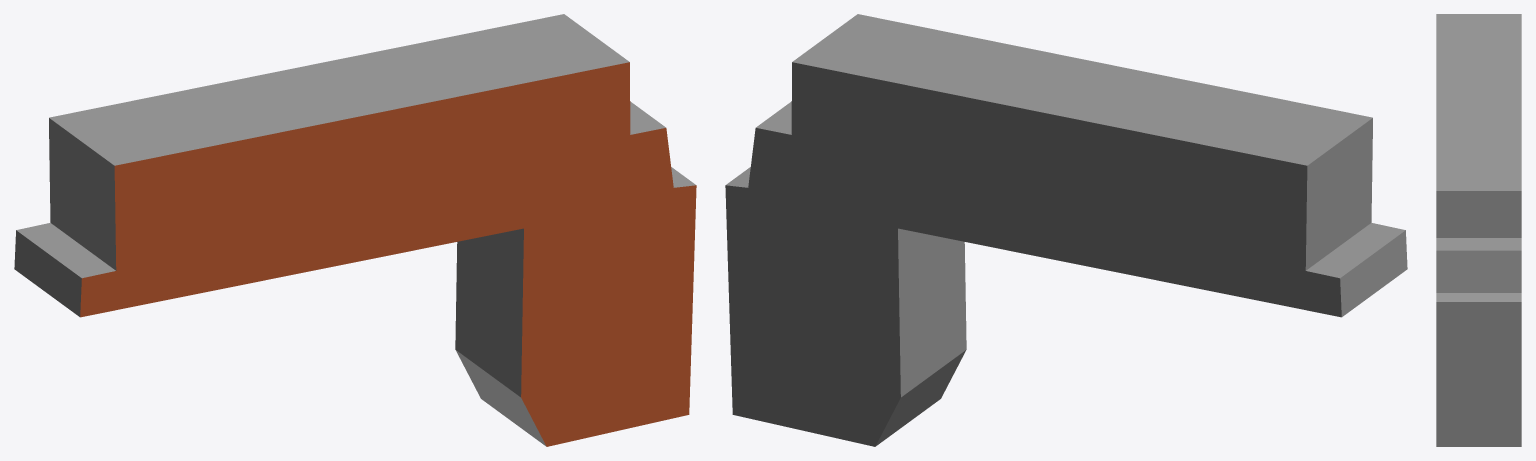
Rendered from construction_5792_assumed_A_Casa_h6m.obj.
3 views of the same model, side by side, from view 1: azimuth 30°, elevation 25°; view 2: azimuth 150°, elevation 25°; view 3: azimuth 270°, elevation 25° (orthographic). The views are drawn at different scales.
Visible parts, largest first — view 1: construction_5792_assumed_A_Casa; view 2: construction_5792_assumed_A_Casa; view 3: construction_5792_assumed_A_Casa.
Part boxes in pixels (x1,y1,x2,y2): construction_5792_assumed_A_Casa: [14, 14, 696, 446]; construction_5792_assumed_A_Casa: [725, 14, 1407, 446]; construction_5792_assumed_A_Casa: [1436, 14, 1521, 446].
Size of the model in its own units: 32.47 by 19.59 by 6.
